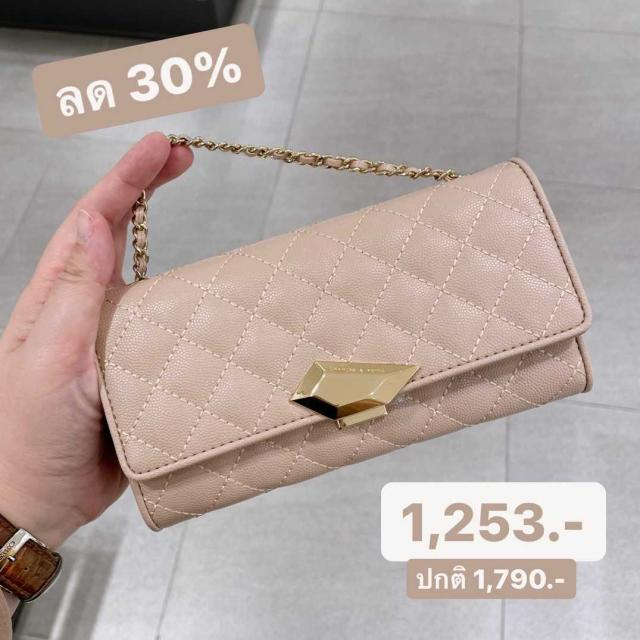bag: (72, 108, 640, 524)
